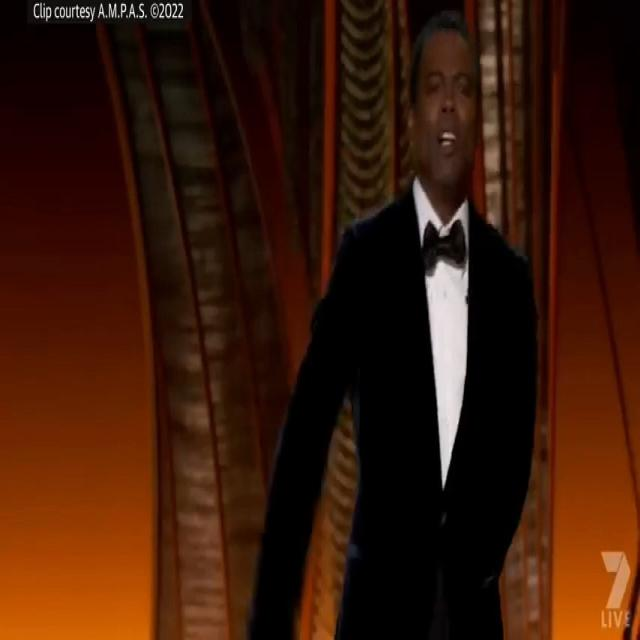non-fight: (234, 1, 552, 640)
